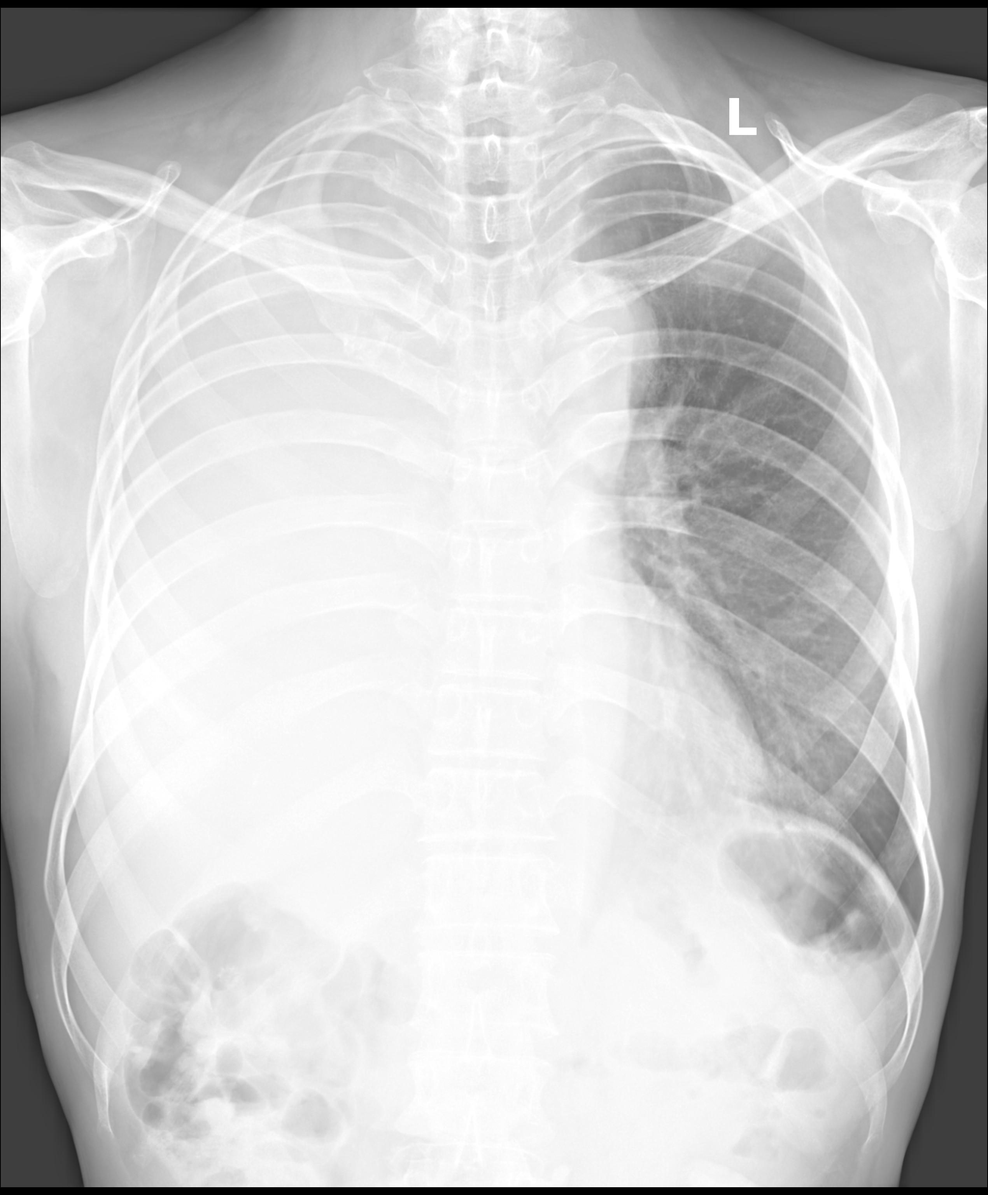Aortic enlargement: (507, 263, 660, 446)
